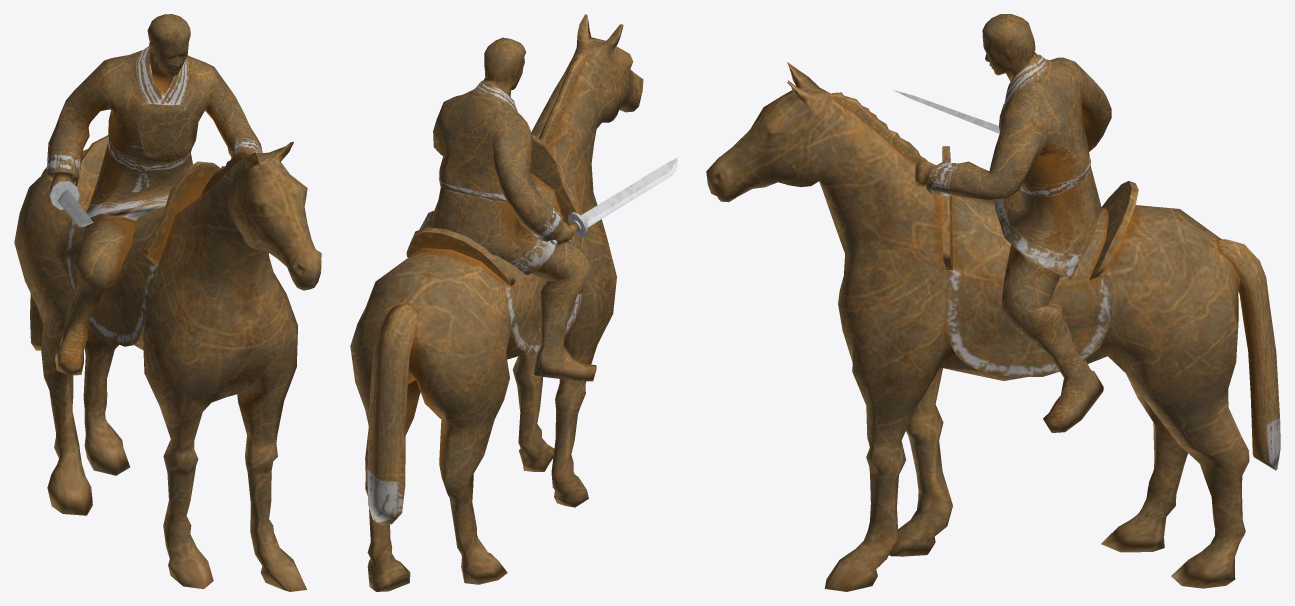
The model's file is 255-terracottarider.glb.
3 views of the same model, side by side, from view 1: azimuth 30°, elevation 25°; view 2: azimuth 150°, elevation 25°; view 3: azimuth 270°, elevation 25° (orthographic). The views are drawn at different scales.
Size of the model in its own units: 1.33 by 2.8 by 2.66.
3 materials, 3 textured.
